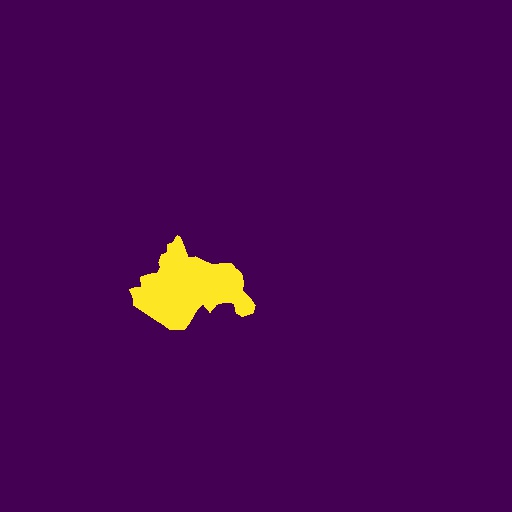Gliomia_tumour: (129, 235, 256, 330)
